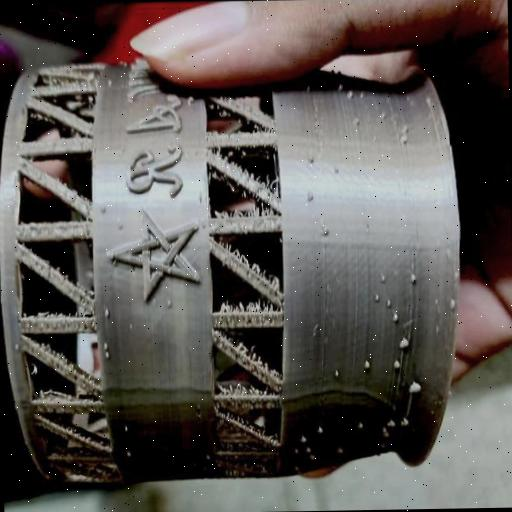blobs: (407, 379, 425, 397), (399, 411, 414, 431), (398, 332, 413, 350), (394, 131, 412, 146), (302, 186, 318, 202), (122, 444, 136, 462), (354, 417, 370, 432), (164, 297, 176, 316), (406, 272, 420, 288), (444, 297, 458, 312), (378, 270, 391, 286), (393, 356, 404, 374), (102, 302, 113, 320), (350, 114, 364, 128), (361, 356, 376, 369), (320, 224, 332, 239), (335, 442, 346, 458), (121, 421, 132, 437), (382, 418, 396, 430), (344, 88, 356, 102), (316, 420, 326, 436), (383, 294, 393, 309), (391, 312, 401, 327), (370, 291, 382, 303), (331, 366, 342, 379), (101, 339, 113, 350), (103, 349, 114, 360), (299, 432, 309, 444)
